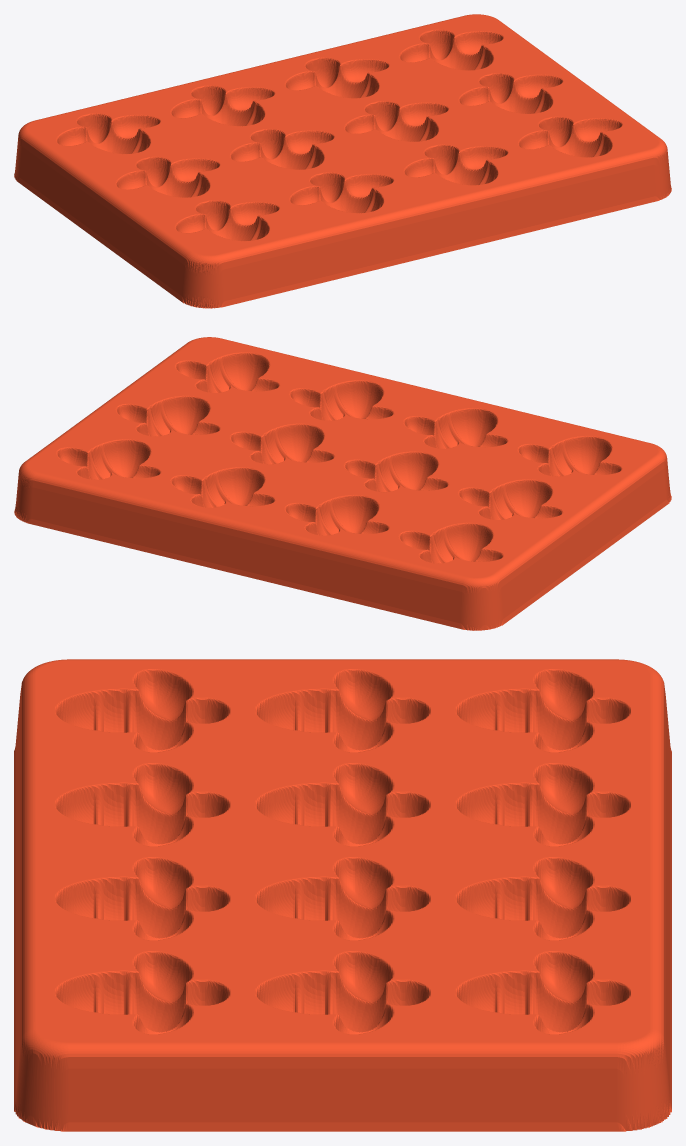
File: mold.glb
3 renders of one model, top to bottom at view 1: azimuth 30°, elevation 25°; view 2: azimuth 150°, elevation 25°; view 3: azimuth 270°, elevation 25°, orthographic. The views are drawn at different scales.
Visible parts, largest first — view 1: geometry_0; view 2: geometry_0; view 3: geometry_0.
Part boxes in pixels (bbox=[...]): geometry_0: bbox=[14, 14, 671, 308]; geometry_0: bbox=[14, 337, 671, 630]; geometry_0: bbox=[14, 659, 671, 1131].
Bounding box in the file's own units: 0.1558 × 0.0145 × 0.1083.
